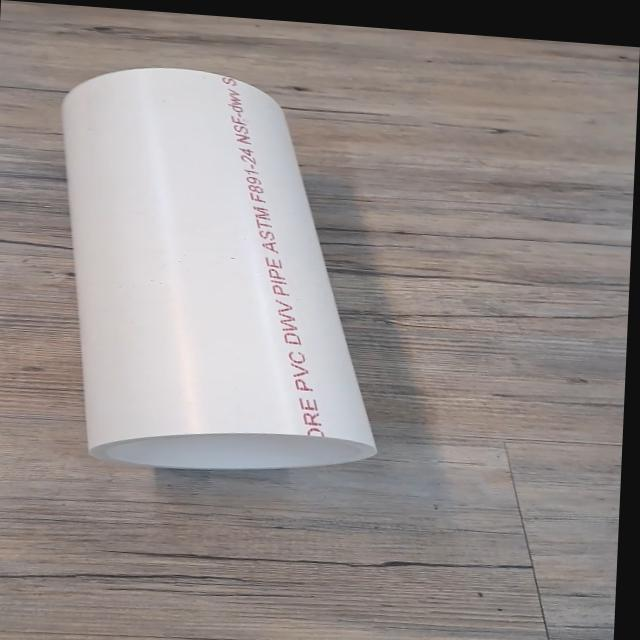CORAL: (22, 48, 430, 525)
